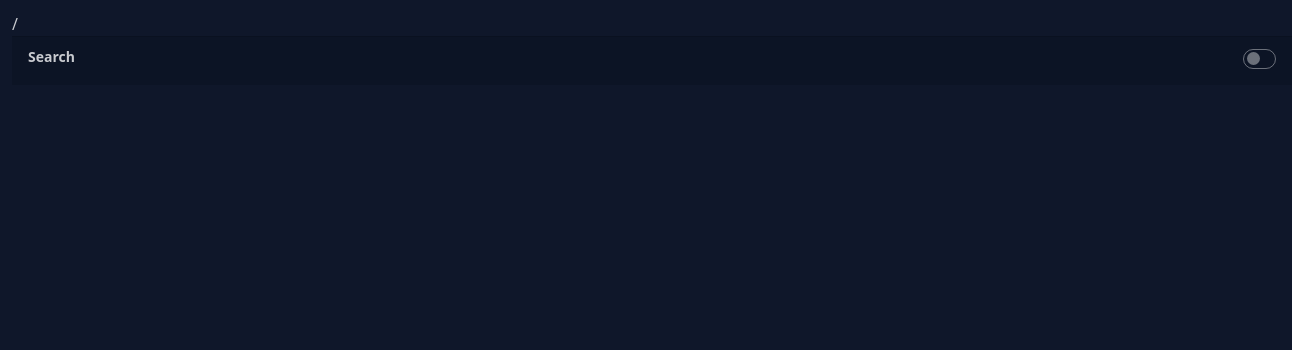
Test case: NavSearchSection — the box is a combobox › draws the rows as ONE listbox of options, and starts on the first
Click the checkbox labelled "Search". click: (1260, 59)
box: left=1243, top=49, right=1276, bottom=69
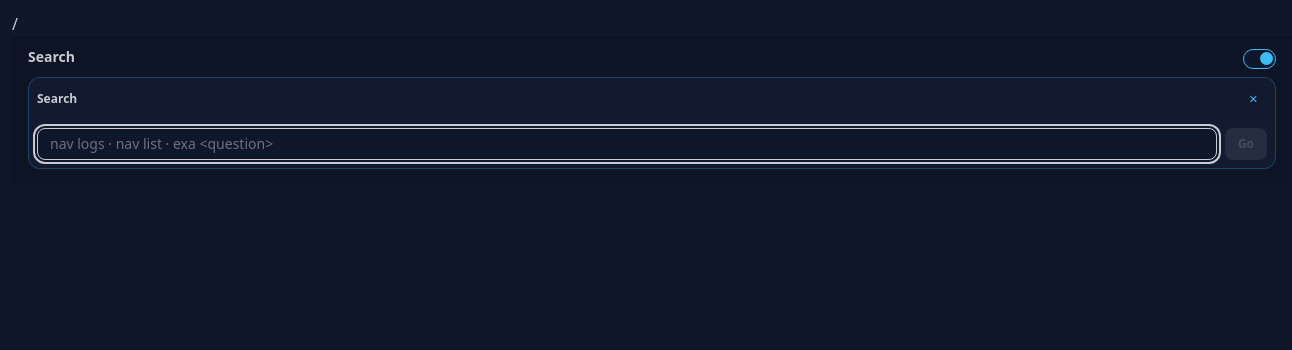
Type "nav list" into the dropdown named "Search commands". click: (627, 144)
box: left=37, top=128, right=1217, bottom=160
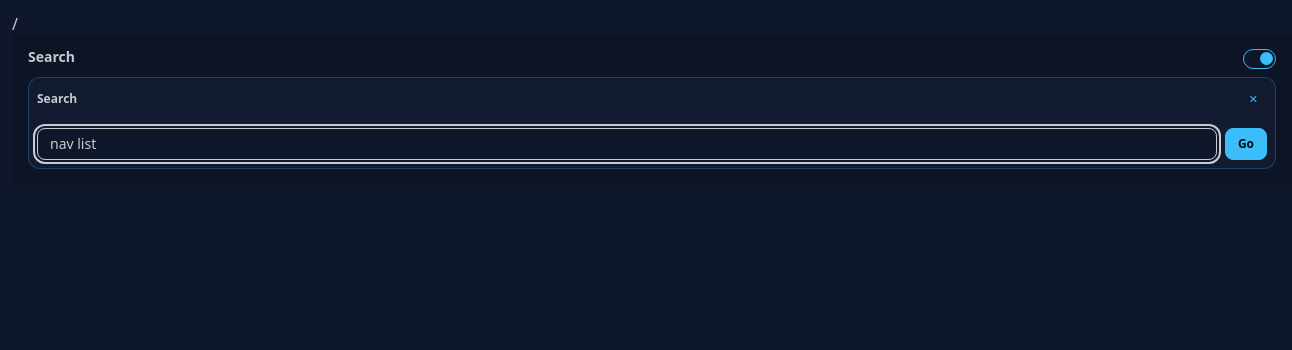
Press Enter in the dropdown named "Search commands", box left=37, top=128, right=1217, bottom=160
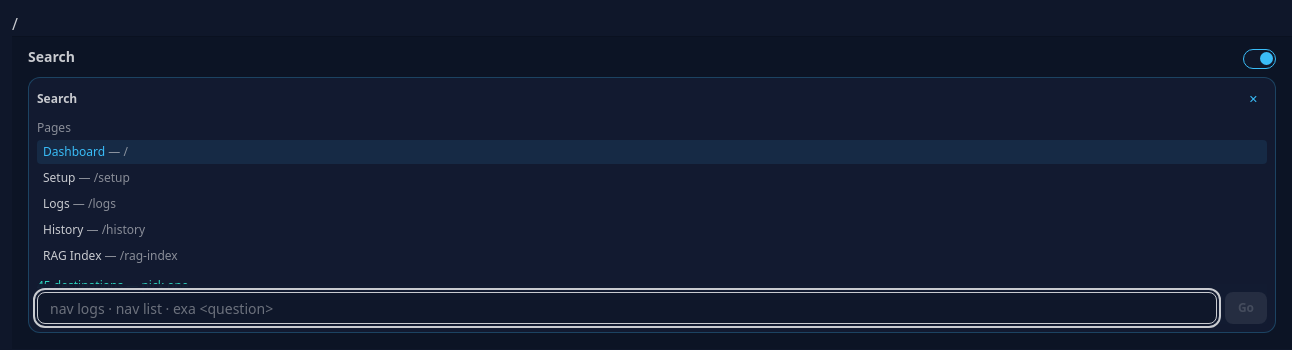
expect the text "Pages" is shown: met, box left=37, top=119, right=71, bottom=136
expect the dropdown named "Search commands" is expanded: met, box left=37, top=292, right=1217, bottom=324
